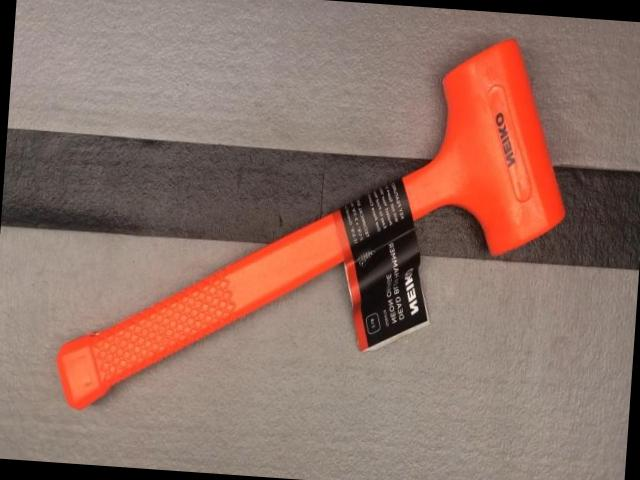hammer: (51, 8, 577, 440)
